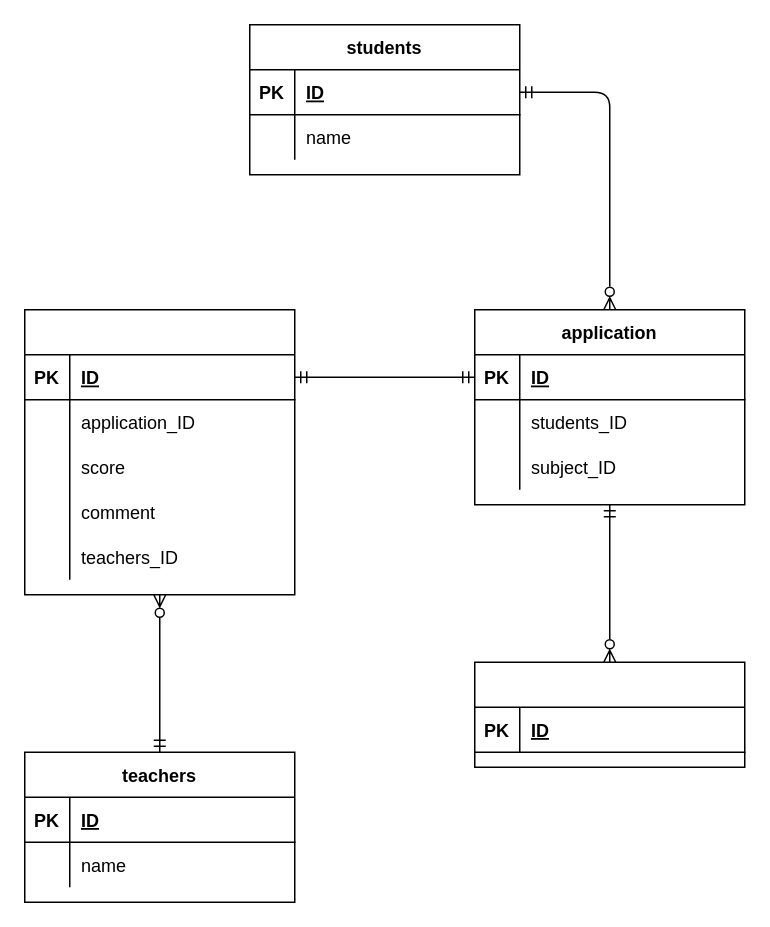
The diagram is 770 pixels wide and 927 high, and some of its shapes have lost their labels. Here are the shapes that lost their labels. From the top down, the box of each, then its label:
(23, 308, 295, 595): examination
(473, 661, 745, 767): subjects
